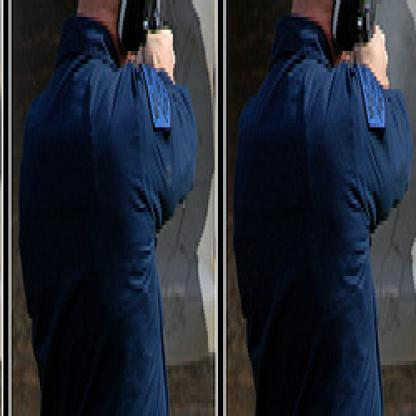gun: (338, 0, 392, 111), (148, 0, 168, 72)
